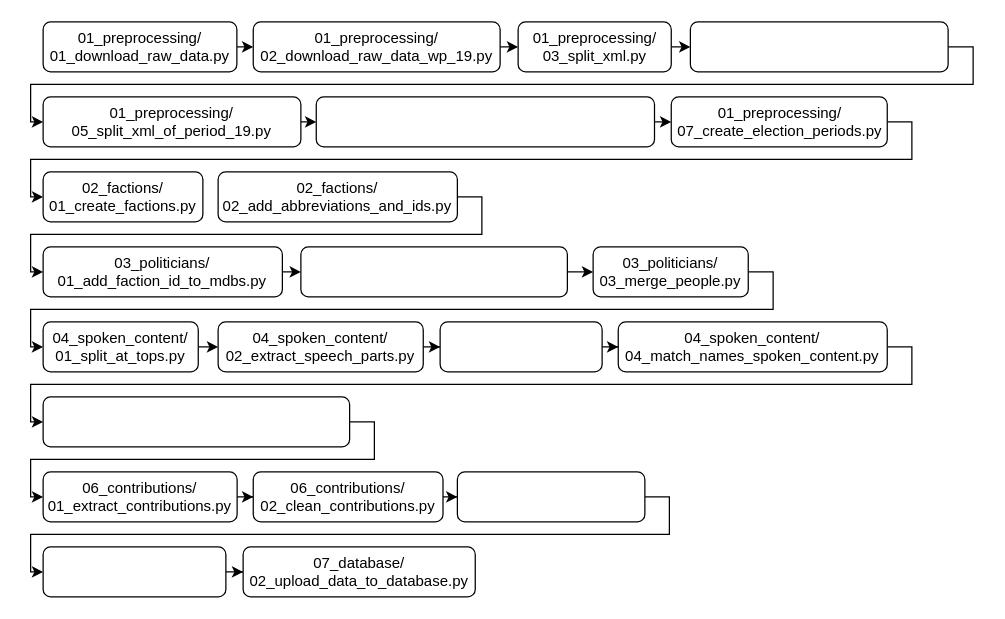
Some shapes in this 1005 by 619 pixel diagram are drawn without their labels. The box of each missing label's shape, as (x1, y1, x2, y2) in pixels:
01_preprocessing/ 04_split_xml_of_period_1_and_2.py: (689, 21, 948, 72)
01_preprocessing/ 06_extract_mdbs_from_STAMMDATEN_XML.py: (315, 96, 654, 147)
03_politicians/ 02_scrape_government_members.py: (300, 246, 567, 297)
04_spoken_content/ 03_clean_speeches.py: (439, 321, 602, 372)
05_election_period_19/ 01_extract_speeches_and_contributions.py: (42, 396, 350, 447)
06_contributions/ 03_match_contributions.py: (456, 471, 645, 522)
07_database/ 01_concat_everything.py: (42, 546, 226, 597)
